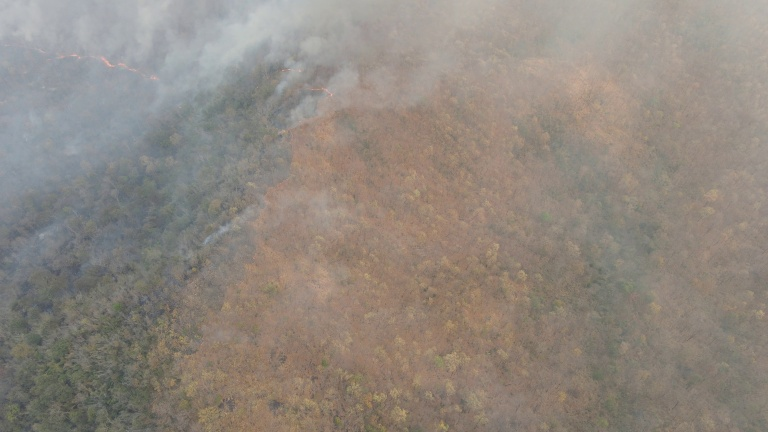fire: (22, 39, 160, 86), (277, 61, 340, 101)
smoke: (3, 1, 312, 191), (288, 57, 377, 128), (200, 197, 284, 254)
